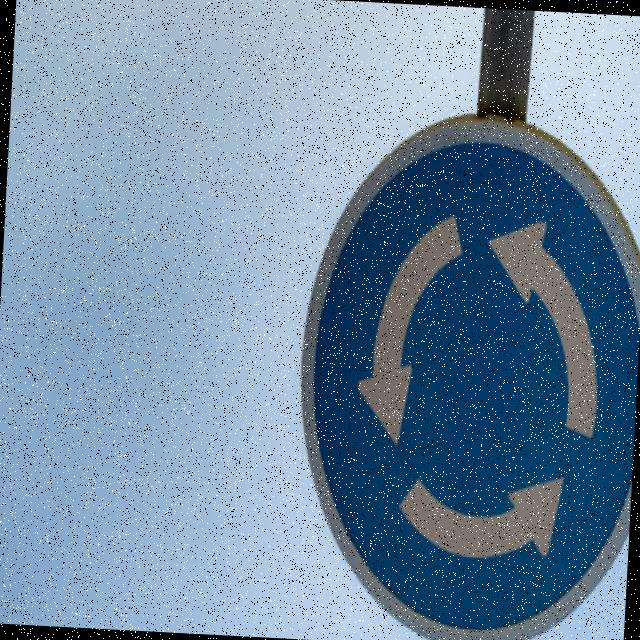round_about: (282, 101, 640, 640)
